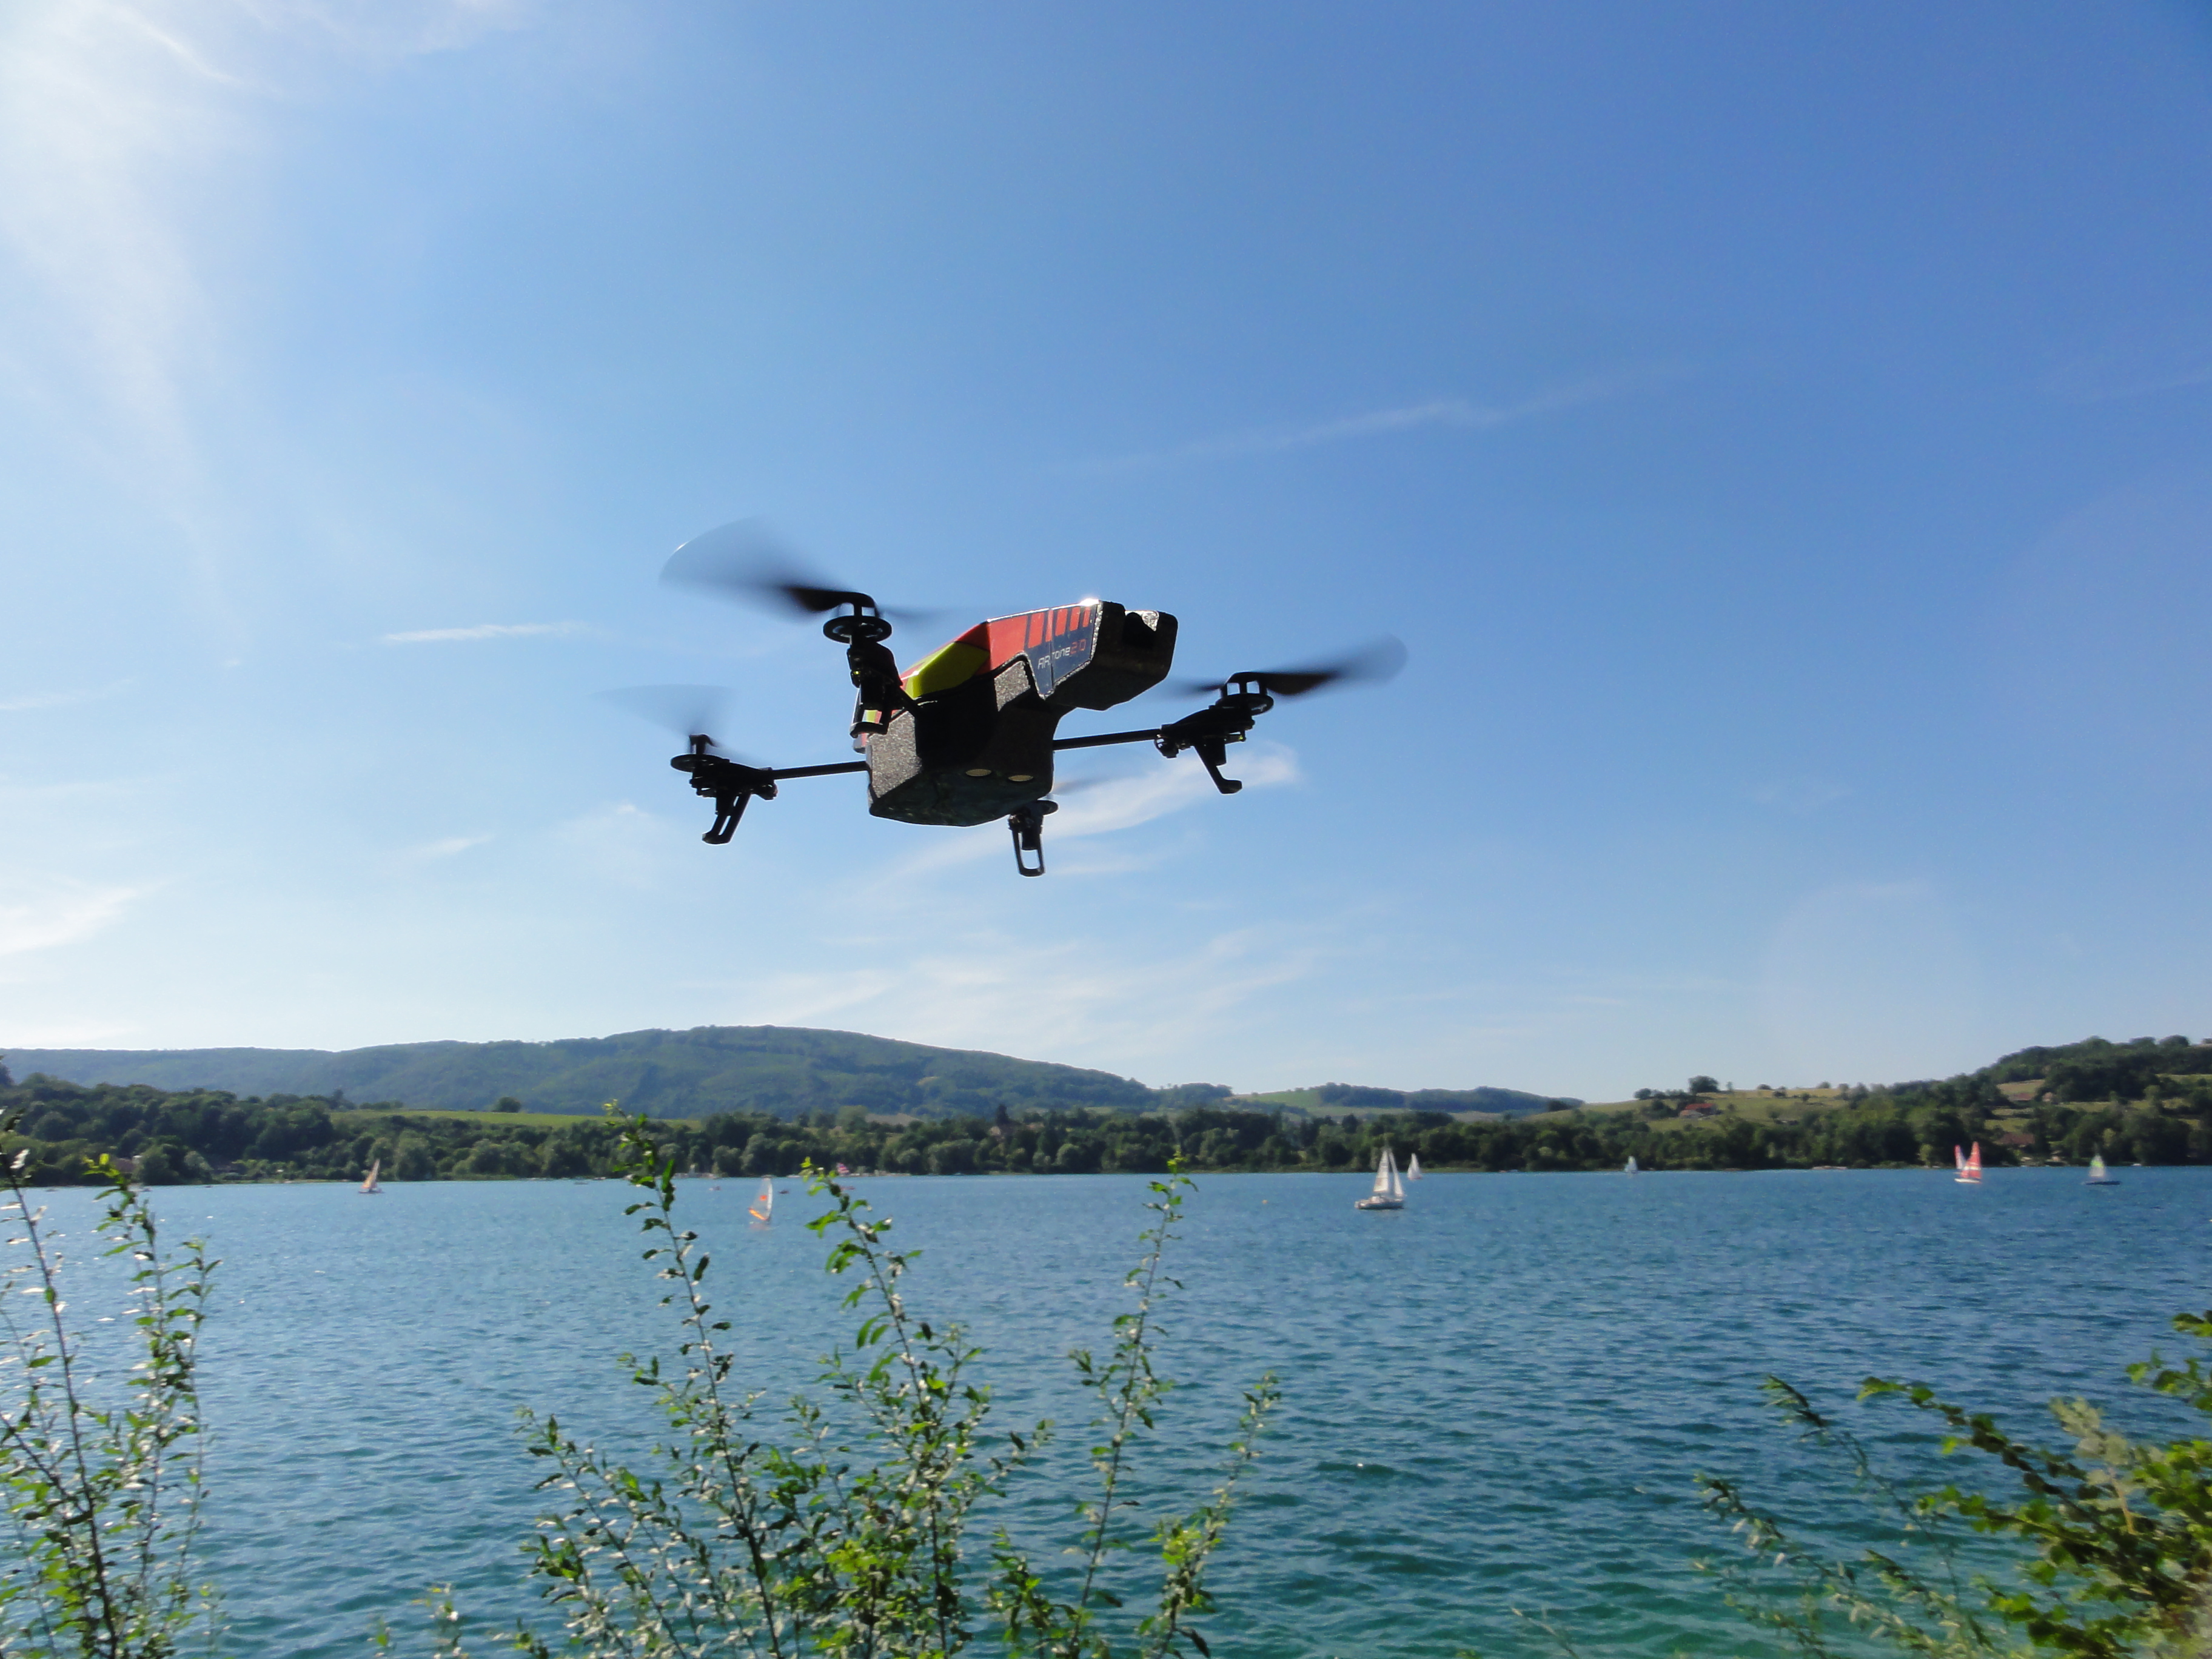drone: (589, 507, 1411, 890)
